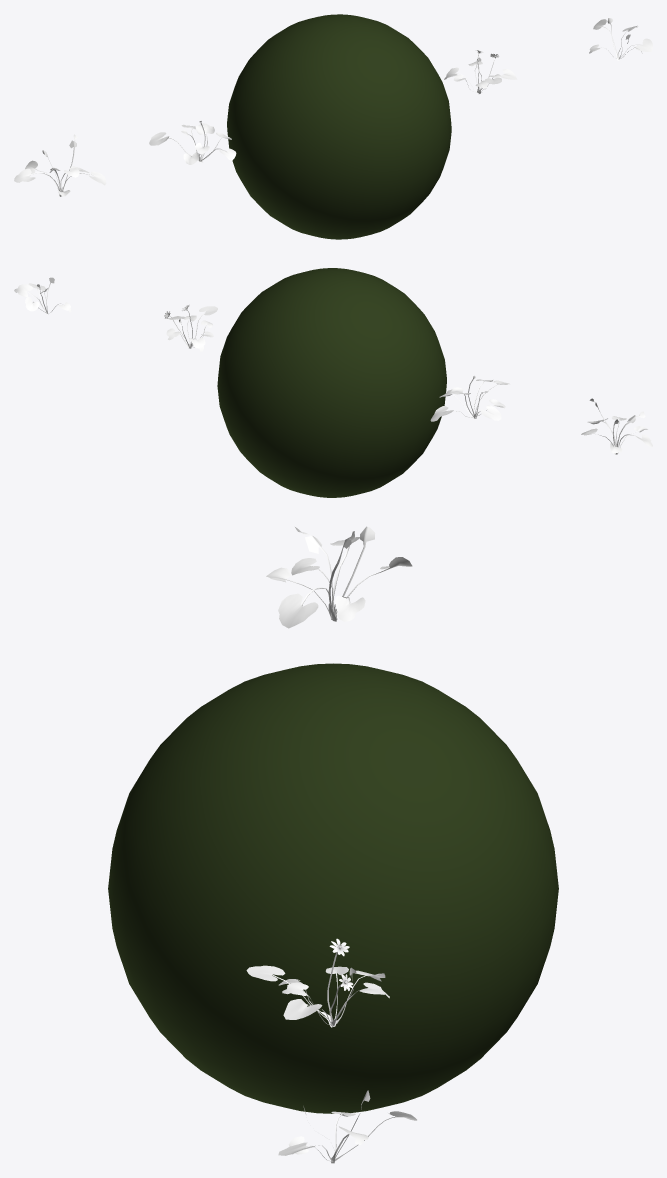
The model's file is herbe.glb.
The picture shows the model from 3 angles, top to bottom: view 1: azimuth 30°, elevation 25°; view 2: azimuth 150°, elevation 25°; view 3: azimuth 270°, elevation 25°; orthographic projection. The views are drawn at different scales.
Visible parts, largest first — view 1: celandine_01_particles, celandine_01_b_LOD0, celandine_01_a_LOD0, celandine_01_d_LOD0, celandine_01_e_LOD0; view 2: celandine_01_particles, celandine_01_b_LOD0, celandine_01_d_LOD0, celandine_01_a_LOD0, celandine_01_e_LOD0; view 3: celandine_01_particles, celandine_01_a_LOD0, celandine_01_d_LOD0, celandine_01_e_LOD0.
Part boxes in pixels (x1,y1,x2,y2): celandine_01_particles: (227, 14, 451, 239); celandine_01_b_LOD0: (149, 121, 236, 164); celandine_01_a_LOD0: (14, 134, 106, 196); celandine_01_d_LOD0: (444, 50, 517, 93); celandine_01_e_LOD0: (589, 18, 652, 60); celandine_01_particles: (217, 268, 446, 497); celandine_01_b_LOD0: (430, 375, 509, 421); celandine_01_d_LOD0: (164, 304, 217, 351); celandine_01_a_LOD0: (581, 398, 652, 454); celandine_01_e_LOD0: (14, 277, 71, 314); celandine_01_particles: (108, 663, 558, 1113); celandine_01_a_LOD0: (266, 526, 412, 628); celandine_01_d_LOD0: (246, 938, 389, 1027); celandine_01_e_LOD0: (278, 1090, 416, 1163).
Size of what is drawn, in the model's own units: 2.24 by 0.7 by 0.7.
